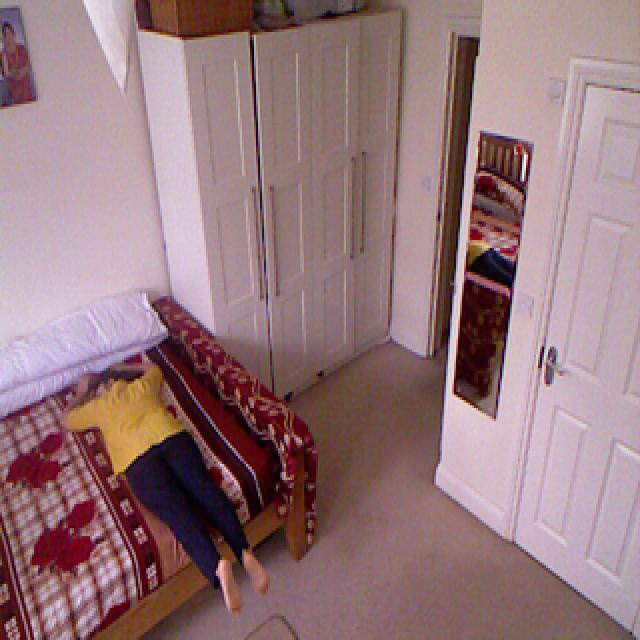lying: (59, 359, 273, 612)
